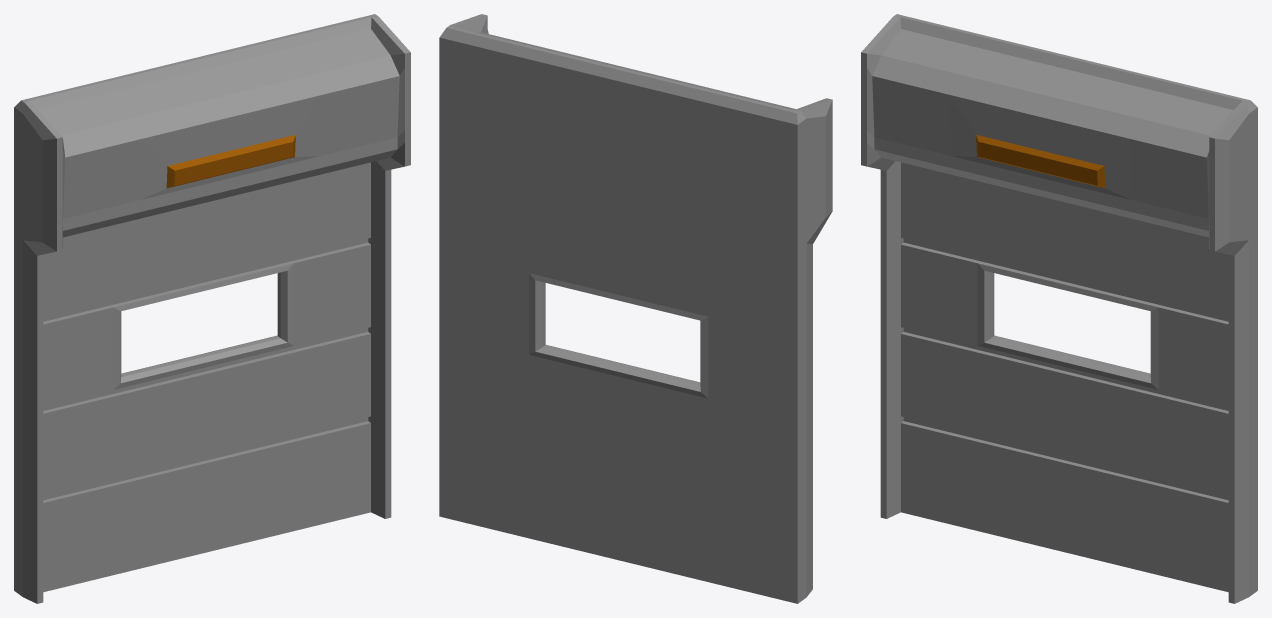
3 views of the same model, side by side, from view 1: azimuth 30°, elevation 25°; view 2: azimuth 150°, elevation 25°; view 3: azimuth 330°, elevation 25° (orthographic).
Parts seen in each view (by area): view 1: Pared 14; view 2: Pared 14; view 3: Pared 14.
Part boxes in pixels (x1=…): Pared 14: x1=14, y1=14, x2=410, y2=603; Pared 14: x1=439, y1=14, x2=832, y2=603; Pared 14: x1=861, y1=14, x2=1257, y2=603.
Bounding box in the file's own units: 183 × 238 × 34.75.
